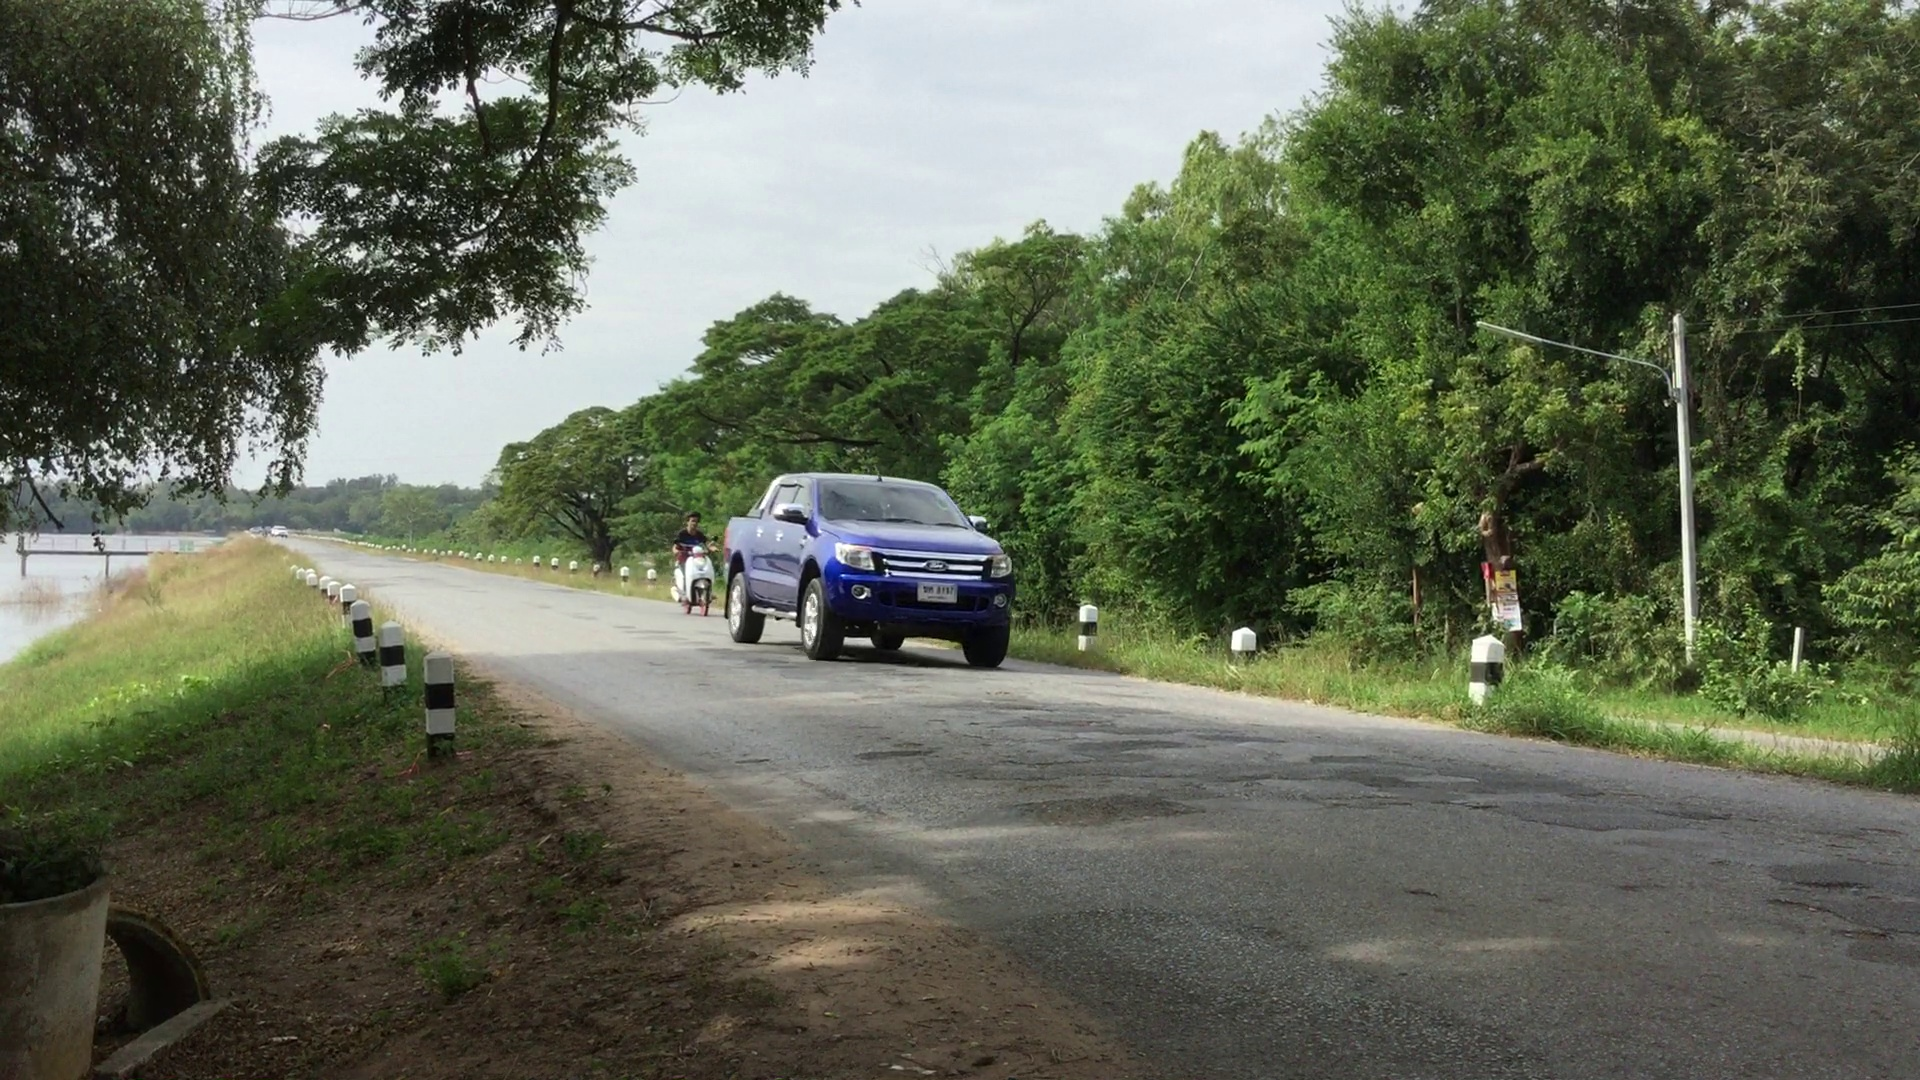car: (721, 474, 1017, 668)
person: (668, 514, 713, 613)
